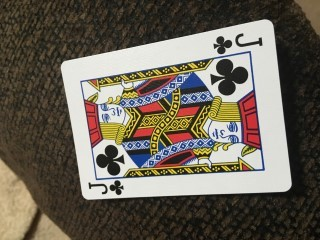JackOfClubs: (61, 20, 292, 200)
